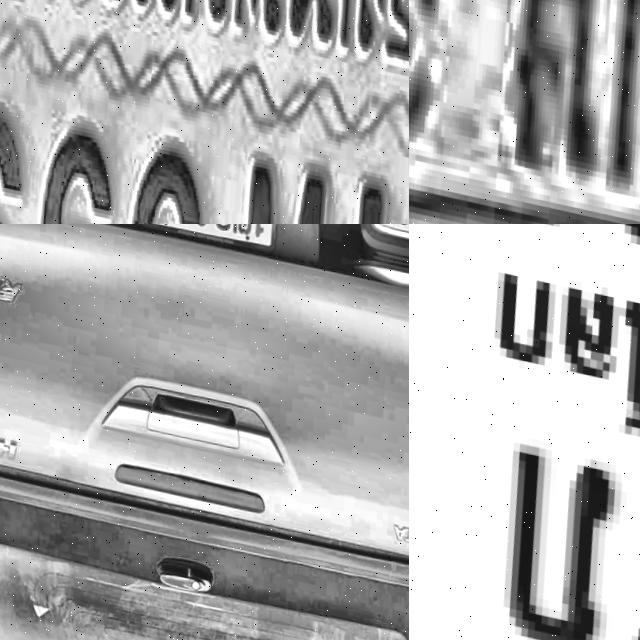license-plate: (409, 224, 640, 640), (0, 0, 409, 224), (409, 0, 640, 224), (126, 224, 285, 248)
